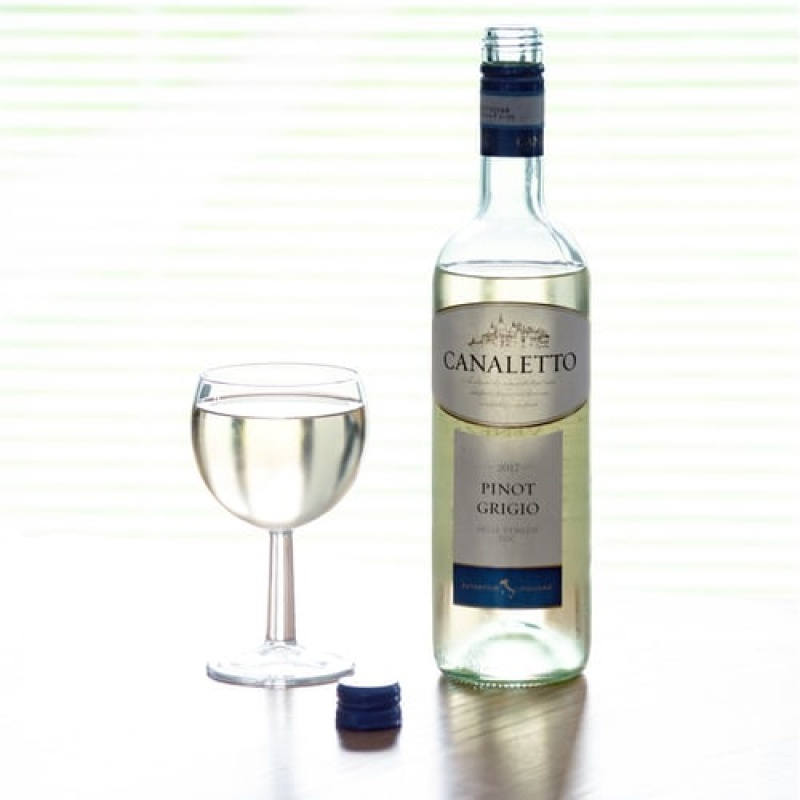wine: (432, 27, 595, 687)
